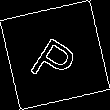P_NE: (26, 24, 84, 86)
